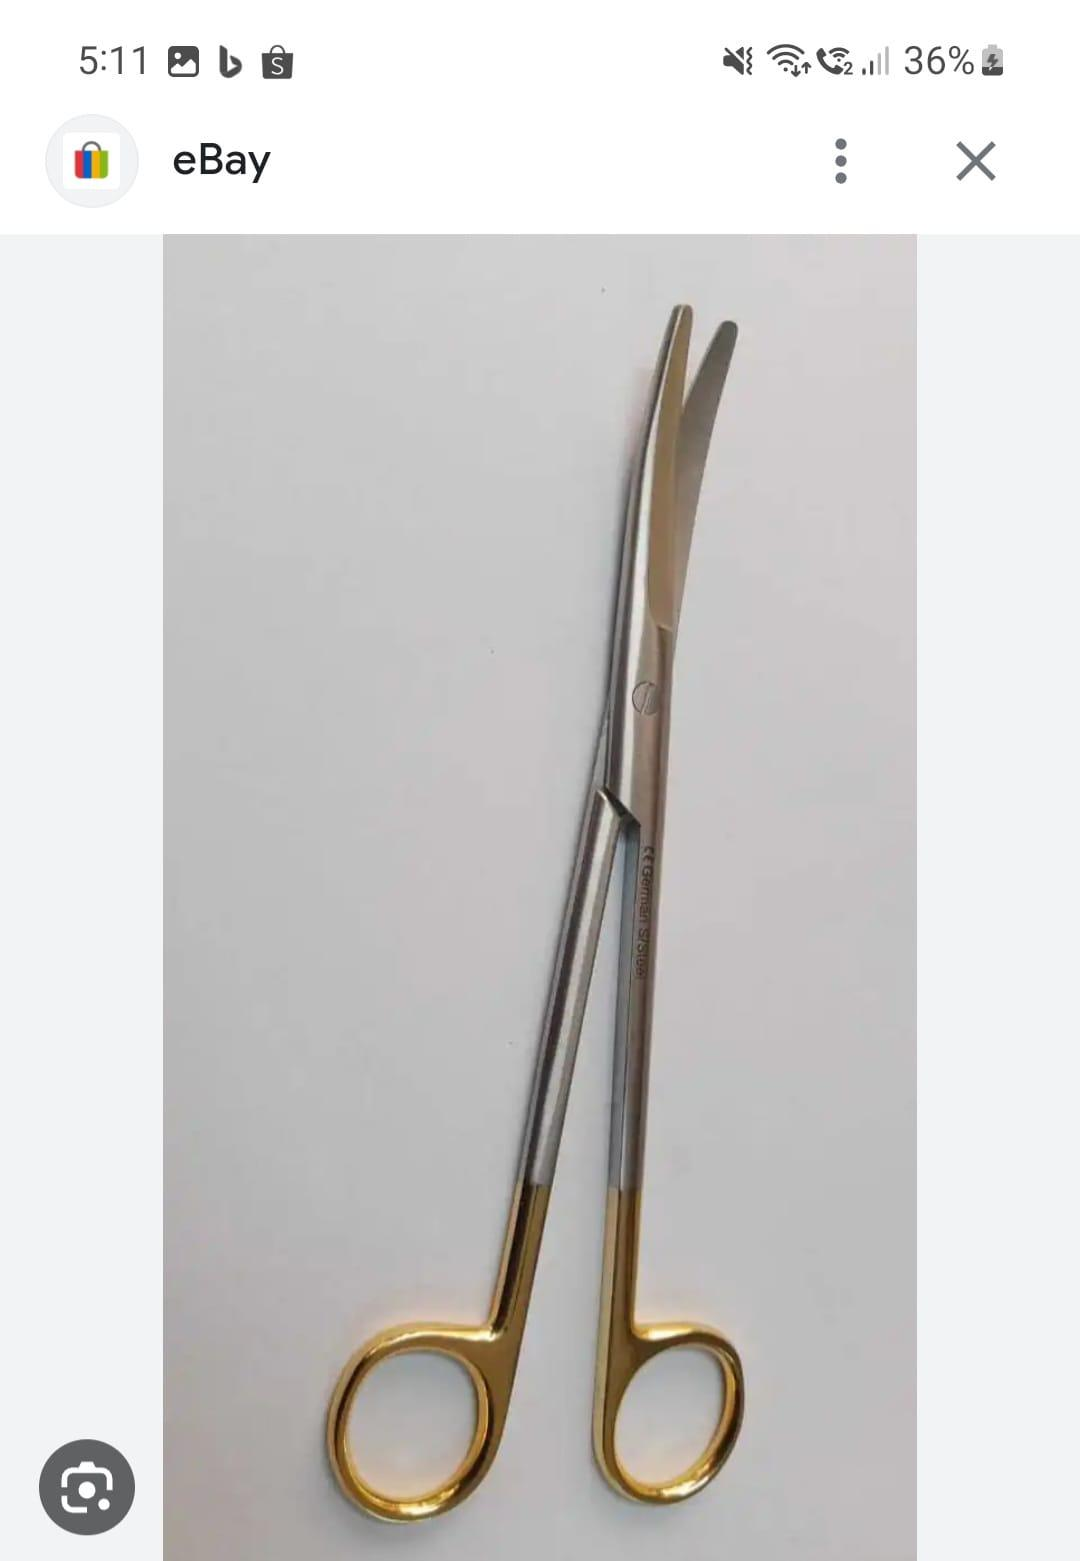Curved Mayo: (307, 289, 773, 1546)
